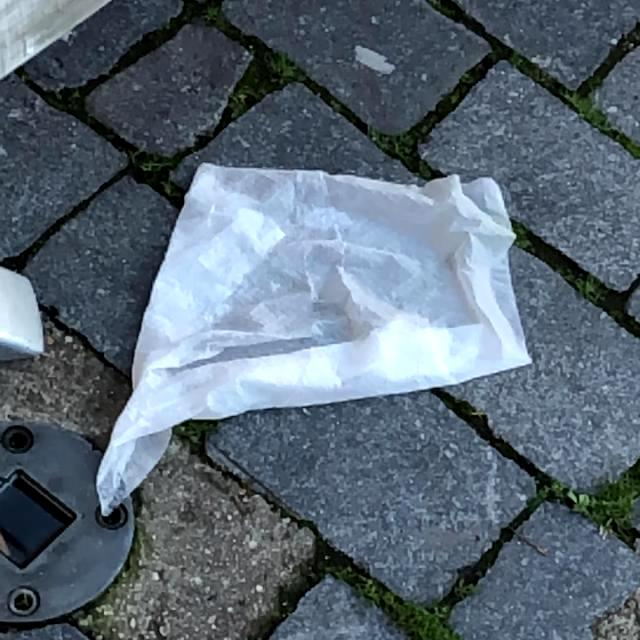Paper: (94, 162, 540, 522)
